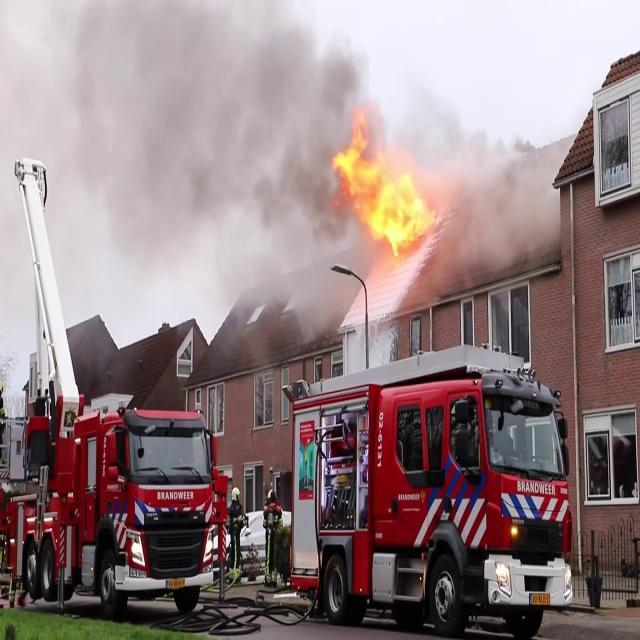Fire: (331, 110, 443, 268)
Smoke: (0, 2, 366, 324), (431, 99, 563, 275)
